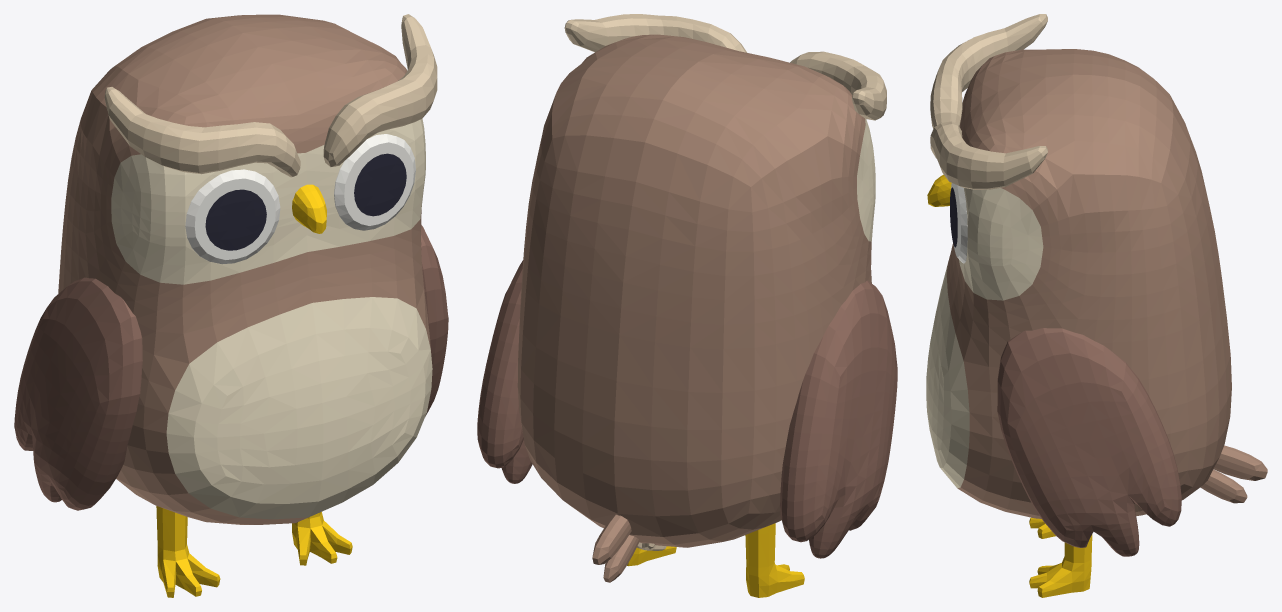
File: Owl_LOD0.fbx
The picture shows the model from 3 angles, left to right: view 1: azimuth 30°, elevation 25°; view 2: azimuth 150°, elevation 25°; view 3: azimuth 270°, elevation 25°; orthographic projection. The views are drawn at different scales.
Visible parts, largest first — view 1: Mesh; view 2: Mesh; view 3: Mesh.
Part boxes in pixels (x1,y1,x2,y2): Mesh: (14,14,448,597); Mesh: (477,14,897,597); Mesh: (926,14,1267,597).
Size of the model in its own units: 136 by 183 by 118.
1 material, 1 textured.
